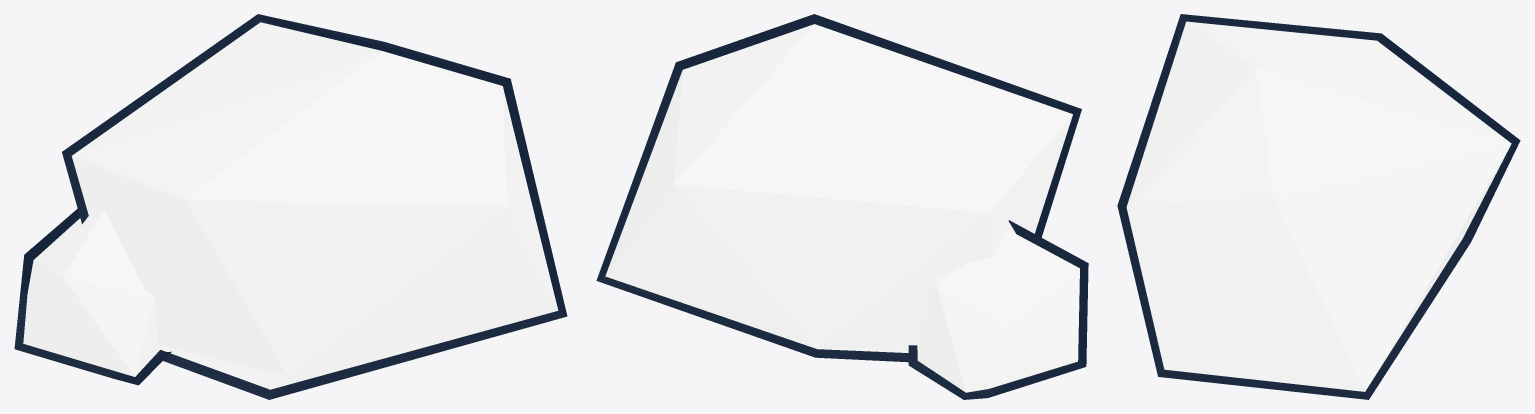
Rendered from boulder.glb.
The picture shows the model from 3 angles, left to right: view 1: azimuth 30°, elevation 25°; view 2: azimuth 150°, elevation 25°; view 3: azimuth 270°, elevation 25°; orthographic projection. The views are drawn at different scales.
Visible parts, largest first — view 1: Body, Outline; view 2: Body, Outline; view 3: Body, Outline.
Part boxes in pixels (bbox=[...]): Body: bbox=[23, 22, 558, 389]; Outline: bbox=[14, 14, 567, 399]; Body: bbox=[605, 24, 1079, 392]; Outline: bbox=[596, 14, 1088, 399]; Body: bbox=[1126, 21, 1511, 391]; Outline: bbox=[1117, 14, 1520, 399].
Bounding box in the file's own units: 10.33 × 6.67 × 7.68.
